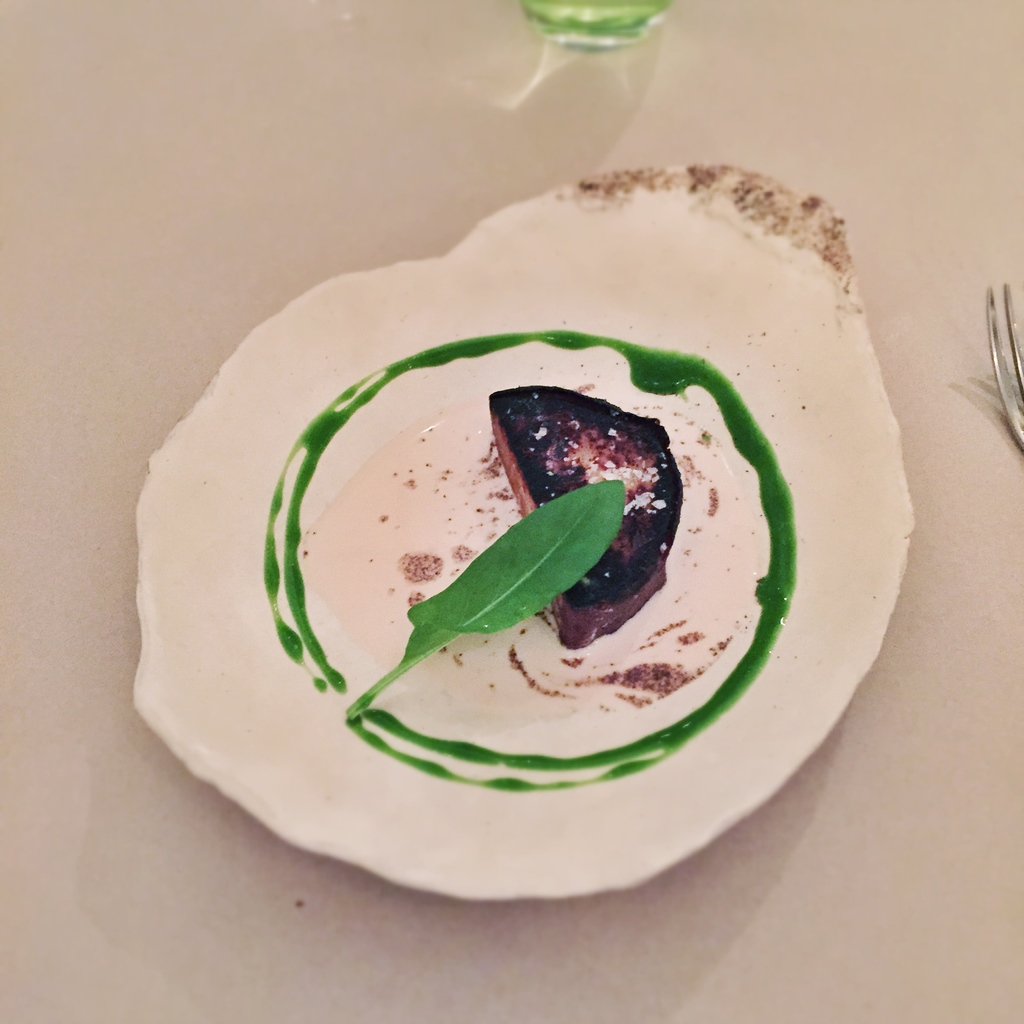plate: (110, 143, 876, 914)
